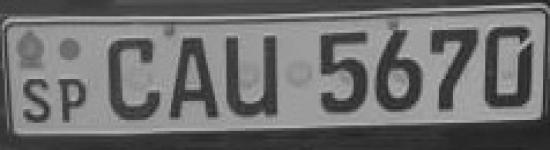0: (482, 22, 537, 116)
5: (312, 26, 372, 120)
6: (372, 20, 430, 120)
7: (430, 22, 483, 115)
A: (163, 29, 222, 127)
C: (103, 28, 163, 127)
P: (56, 76, 94, 125)
S: (21, 73, 54, 127)
U: (221, 30, 288, 122)
